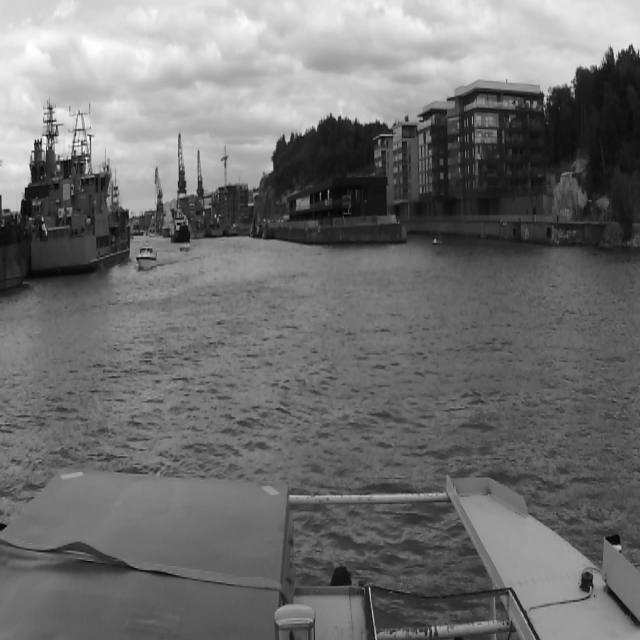ship: (27, 122, 136, 274), (172, 209, 192, 243), (137, 249, 155, 269)
